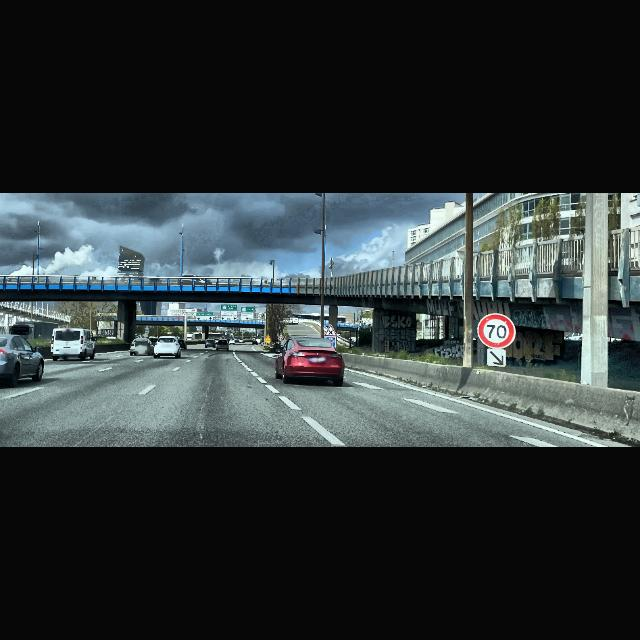speed_70: (477, 314, 517, 348)
